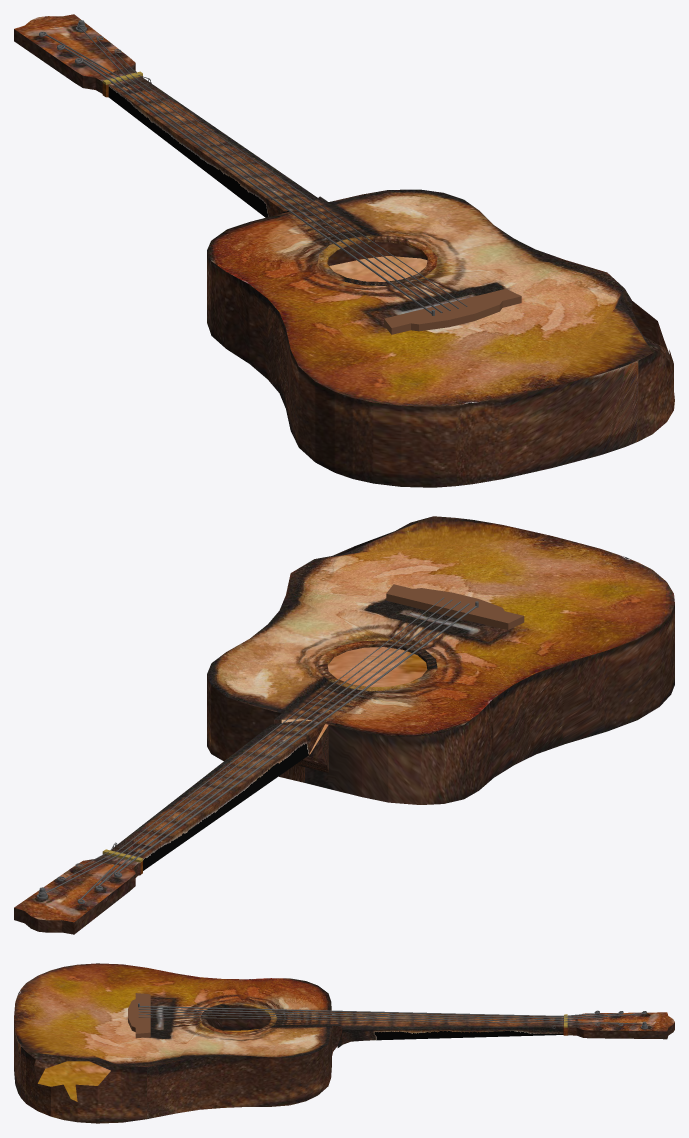
Rendered from GUITAR.glb.
3 views of the same model, one above another, from view 1: azimuth 30°, elevation 25°; view 2: azimuth 150°, elevation 25°; view 3: azimuth 270°, elevation 25° (orthographic). The views are drawn at different scales.
Visible parts, largest first — view 1: Corps, chevalet, Mi, La, Re, Sol, Si; view 2: Corps, chevalet, Mi, La, Re, Sol, Si; view 3: Corps, Mi, chevalet, La, Re, Sol, Si.
Boxes of the visible parts, box(x1,y1,x2,y2) form: Corps: box(14, 14, 674, 487); chevalet: box(384, 289, 521, 334); Mi: box(75, 58, 431, 313); La: box(57, 44, 442, 313); Re: box(39, 31, 450, 310); Sol: box(77, 23, 458, 308); Si: box(96, 35, 467, 306); Corps: box(14, 516, 674, 934); chevalet: box(386, 584, 524, 629); Mi: box(114, 606, 476, 877); La: box(95, 603, 469, 890); Re: box(77, 601, 460, 903); Sol: box(38, 599, 452, 894); Si: box(57, 597, 443, 880); Corps: box(14, 963, 674, 1123); Mi: box(139, 1006, 599, 1016); chevalet: box(128, 993, 150, 1038); La: box(138, 1008, 623, 1018); Re: box(138, 1011, 646, 1020); Sol: box(138, 1014, 646, 1026); Si: box(139, 1016, 622, 1026).
Size of the model in its own units: 1.66 by 0.4226 by 4.3.
3 materials, 1 textured.
